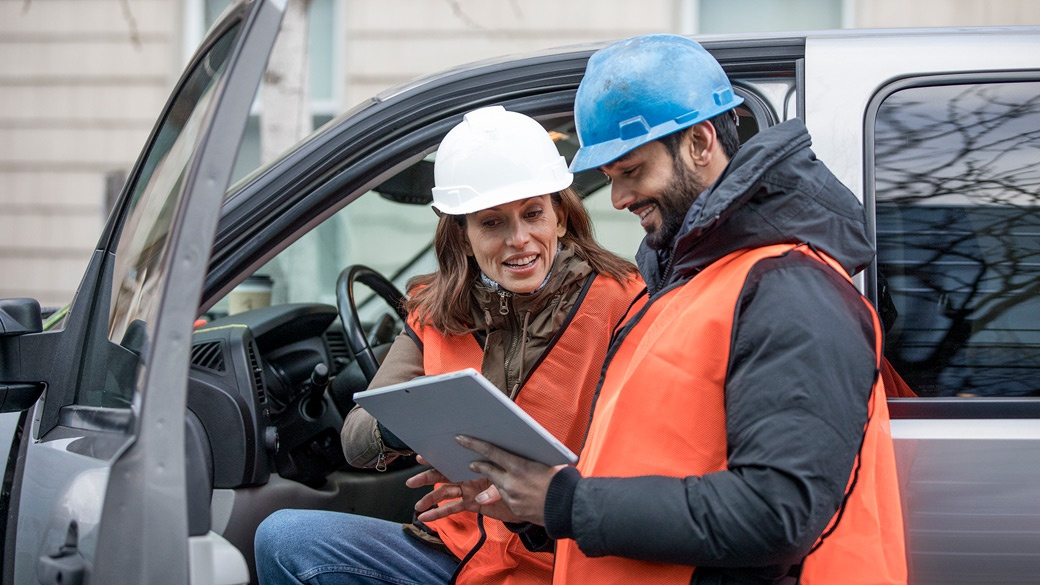blue: (568, 33, 750, 249)
white: (428, 100, 572, 293)
